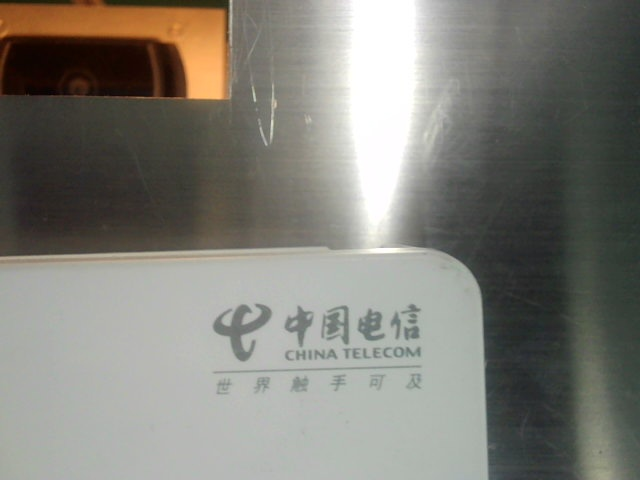AB_ChinaTelecom: (196, 296, 452, 407)
